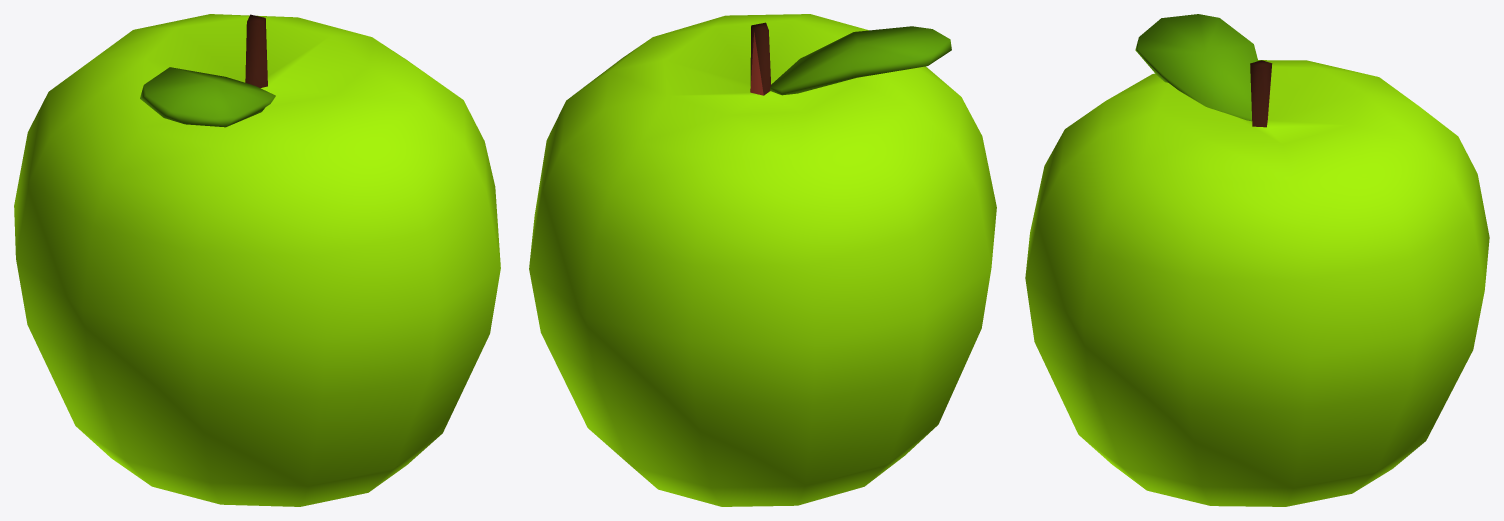
File: green_apple.glb
3 renders of one model, left to right at view 1: azimuth 30°, elevation 25°; view 2: azimuth 150°, elevation 25°; view 3: azimuth 270°, elevation 25°, orthographic. The views are drawn at different scales.
Visible parts, largest first — view 1: green_apple; view 2: green_apple; view 3: green_apple.
Part boxes in pixels (x1,y1,x2,y2): green_apple: (14,14,500,506); green_apple: (529,14,996,506); green_apple: (1025,14,1489,506).
Bounding box in the file's own units: 0.4552 × 0.4836 × 0.4894.
Materials: 1 (1 with a texture image).
